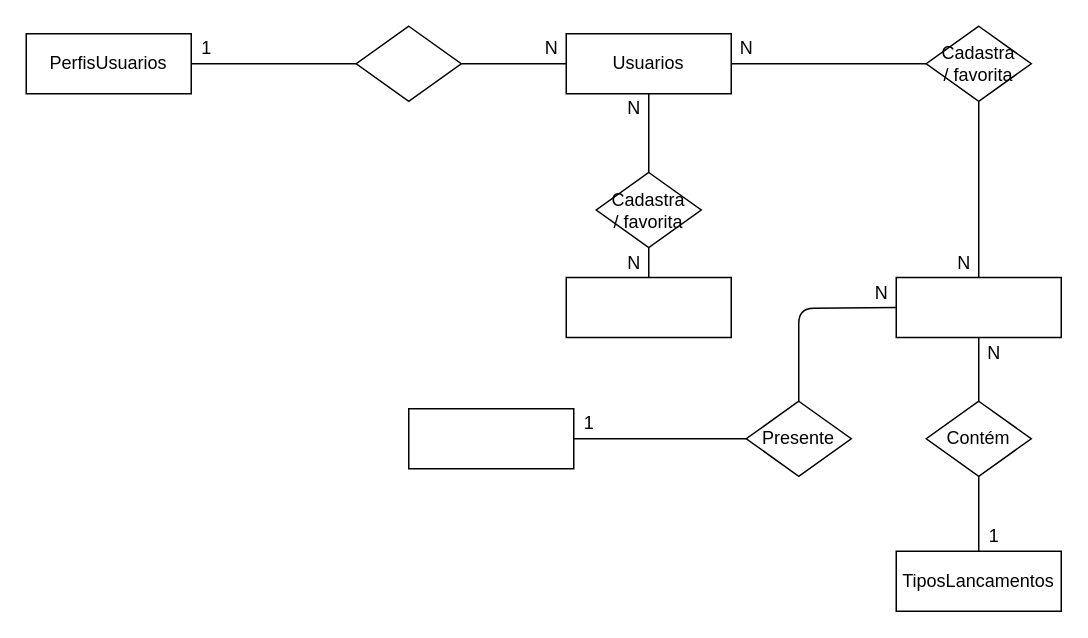
This 1088x638 diagram has some shape labels left out. The shapes that lost their labels are listed below. From the top down, each one's centre as x and y in pixels, then its label:
(x=408, y=63): Classifica
(x=648, y=307): Categorias
(x=978, y=307): Lancamentos
(x=490, y=438): Plataformas
